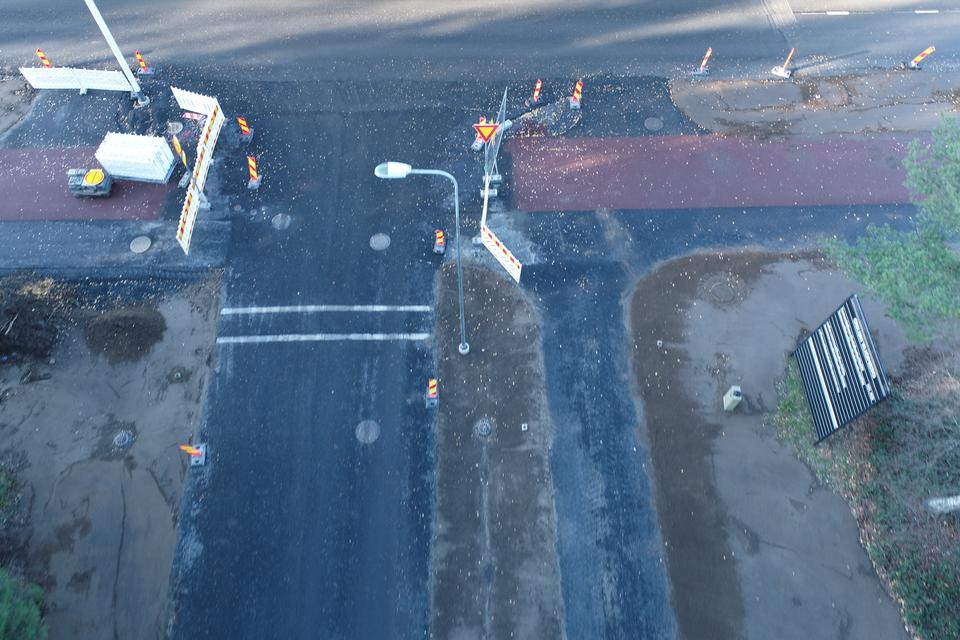intersection: (163, 3, 714, 350)
